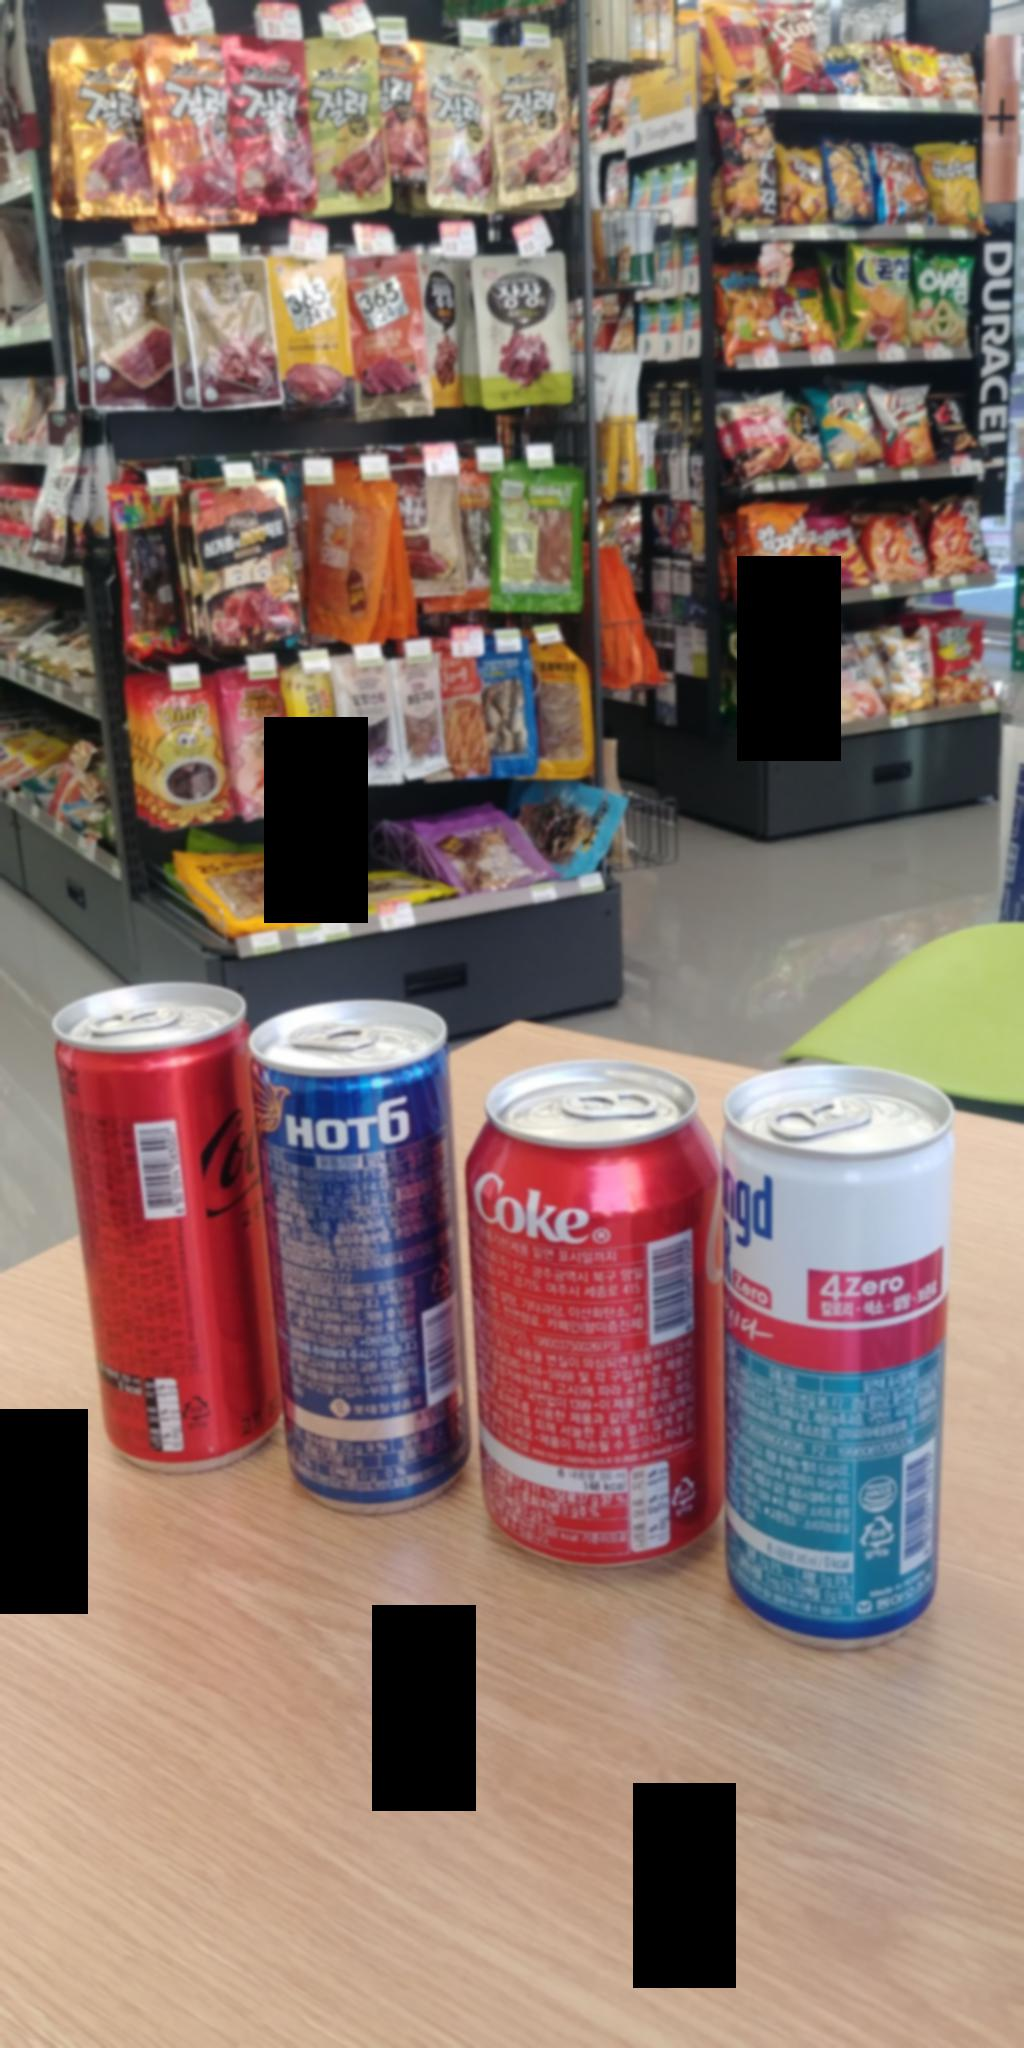cocacola: (458, 1062, 714, 1574)
hotsix_org: (247, 999, 470, 1519)
narangdcider: (720, 1044, 967, 1650)
